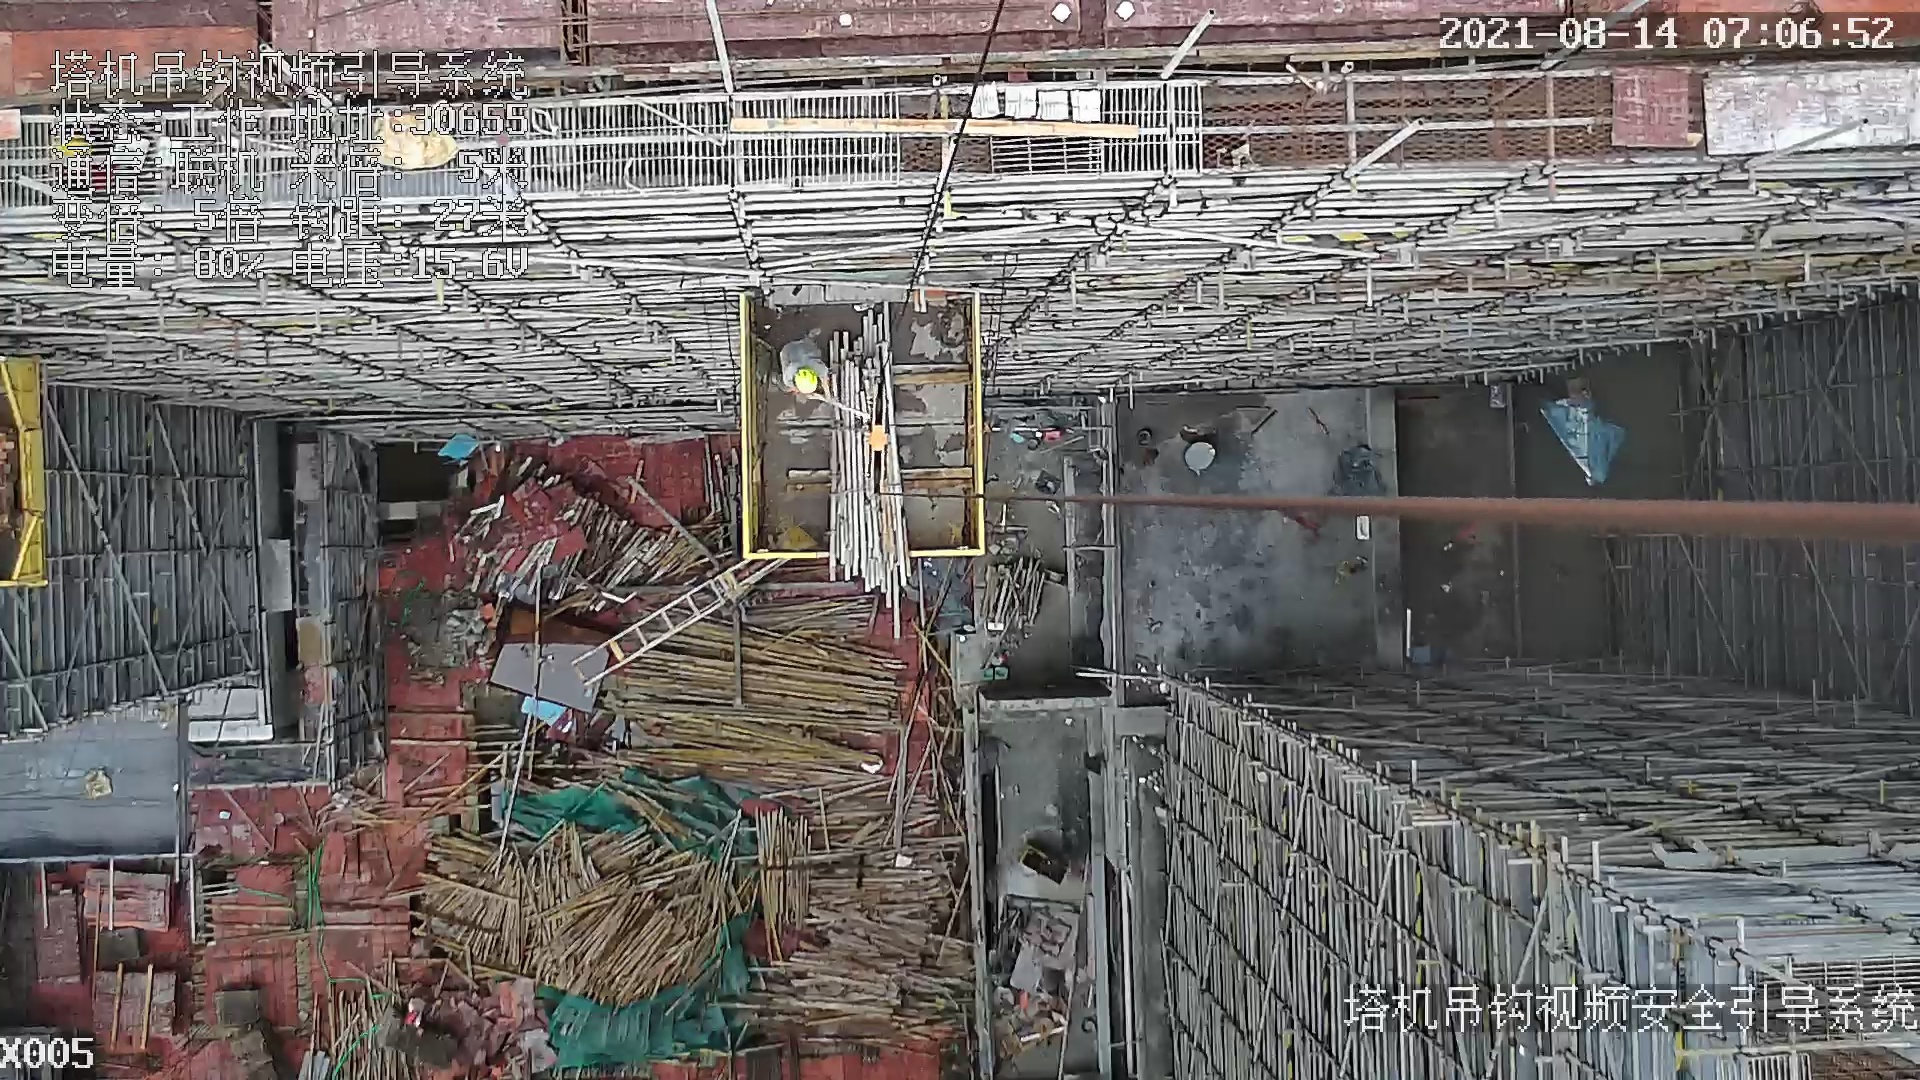helmet: (792, 367, 820, 395)
hook: (856, 386, 897, 504)
person: (777, 333, 835, 405)
